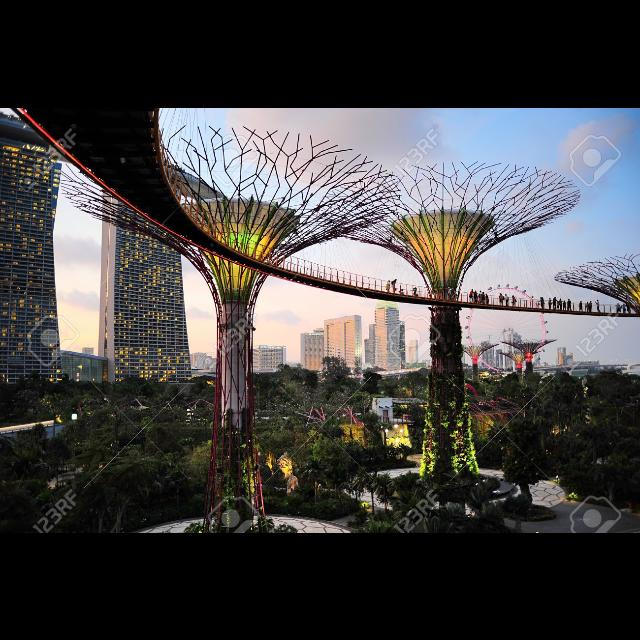head: (394, 279, 398, 281), (389, 280, 391, 282), (402, 289, 404, 291), (451, 287, 453, 289), (472, 289, 474, 291), (480, 290, 482, 292), (483, 292, 485, 294), (486, 294, 488, 296), (500, 293, 502, 295), (501, 294, 503, 296), (512, 296, 514, 298), (549, 298, 551, 300), (554, 297, 556, 299), (560, 298, 562, 300), (564, 300, 566, 302), (568, 298, 570, 300), (580, 301, 582, 303), (590, 300, 592, 302), (597, 299, 599, 301), (617, 302, 619, 304), (627, 302, 629, 304), (416, 286, 416, 288), (506, 294, 506, 296)
person: (594, 299, 602, 313), (392, 278, 398, 294), (447, 286, 453, 302), (469, 288, 475, 304), (614, 302, 622, 314), (385, 279, 391, 293), (477, 290, 483, 304), (498, 292, 504, 306), (500, 292, 506, 306), (504, 293, 510, 307), (552, 296, 558, 310), (567, 298, 573, 312), (412, 286, 418, 298), (512, 294, 518, 306), (558, 298, 564, 310), (578, 300, 584, 312), (588, 300, 594, 312), (626, 302, 632, 314), (398, 288, 406, 296), (482, 291, 486, 305), (548, 296, 552, 310), (486, 293, 490, 305), (563, 299, 567, 311)
